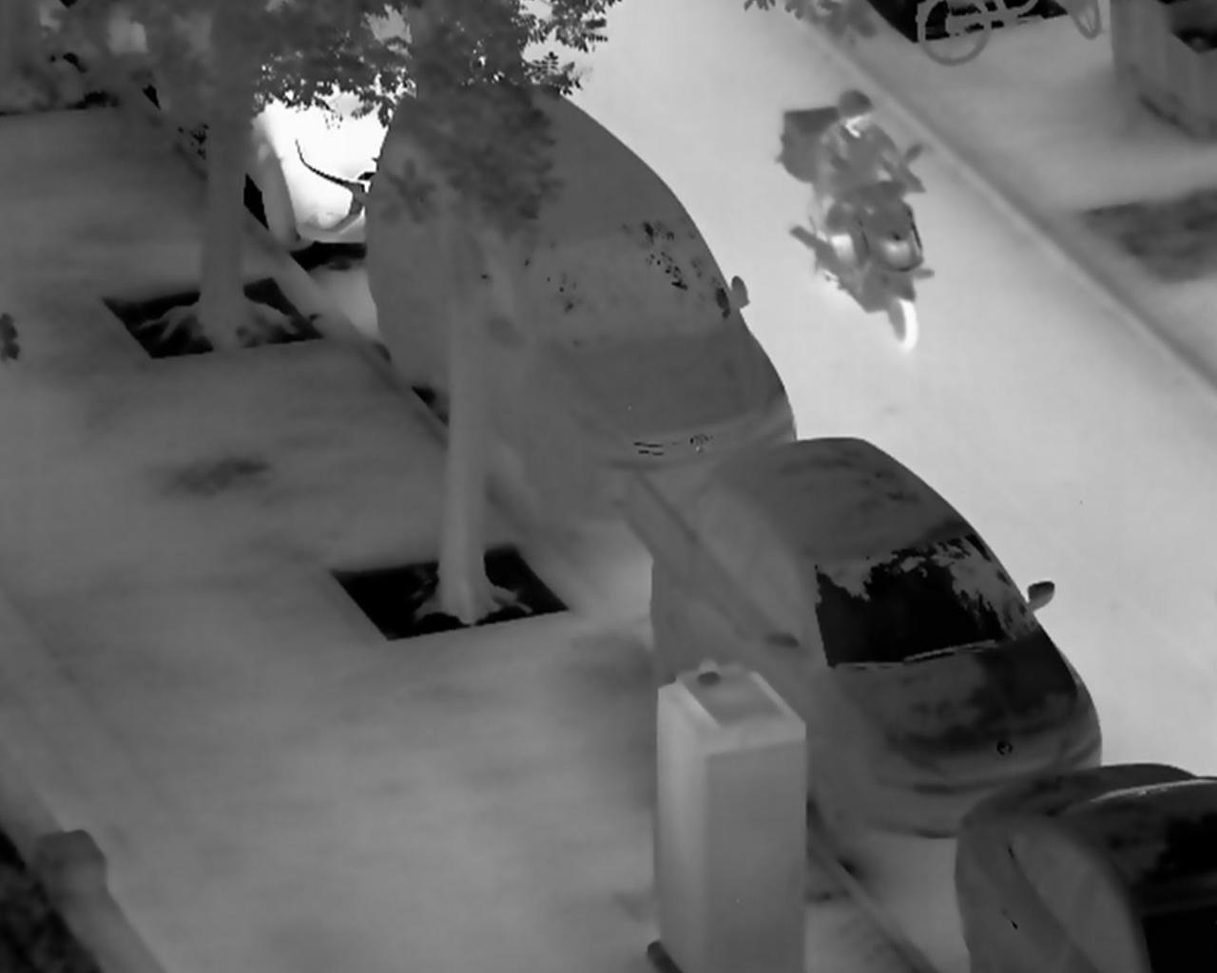person: (815, 86, 932, 296)
